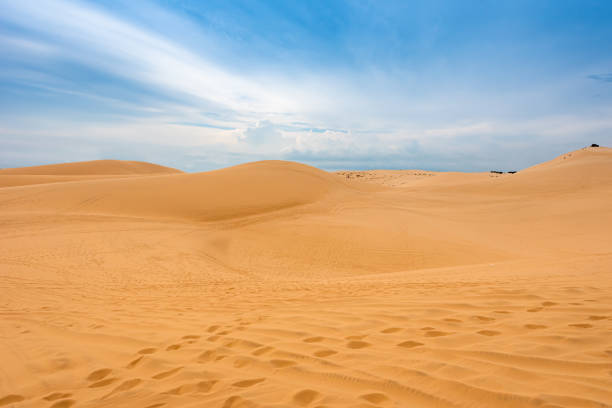human_footprint: (103, 378, 141, 398), (165, 380, 217, 394), (292, 389, 320, 405), (151, 366, 182, 379), (359, 392, 390, 404), (232, 377, 265, 387), (0, 394, 25, 406), (87, 368, 111, 380), (89, 377, 117, 387), (43, 392, 71, 400), (269, 359, 296, 367), (49, 399, 76, 407), (346, 340, 370, 348), (313, 349, 337, 357), (397, 340, 423, 347), (424, 330, 452, 336), (303, 336, 324, 342), (380, 327, 401, 333), (138, 347, 156, 354), (568, 323, 592, 328), (477, 330, 500, 335), (524, 324, 546, 329)
